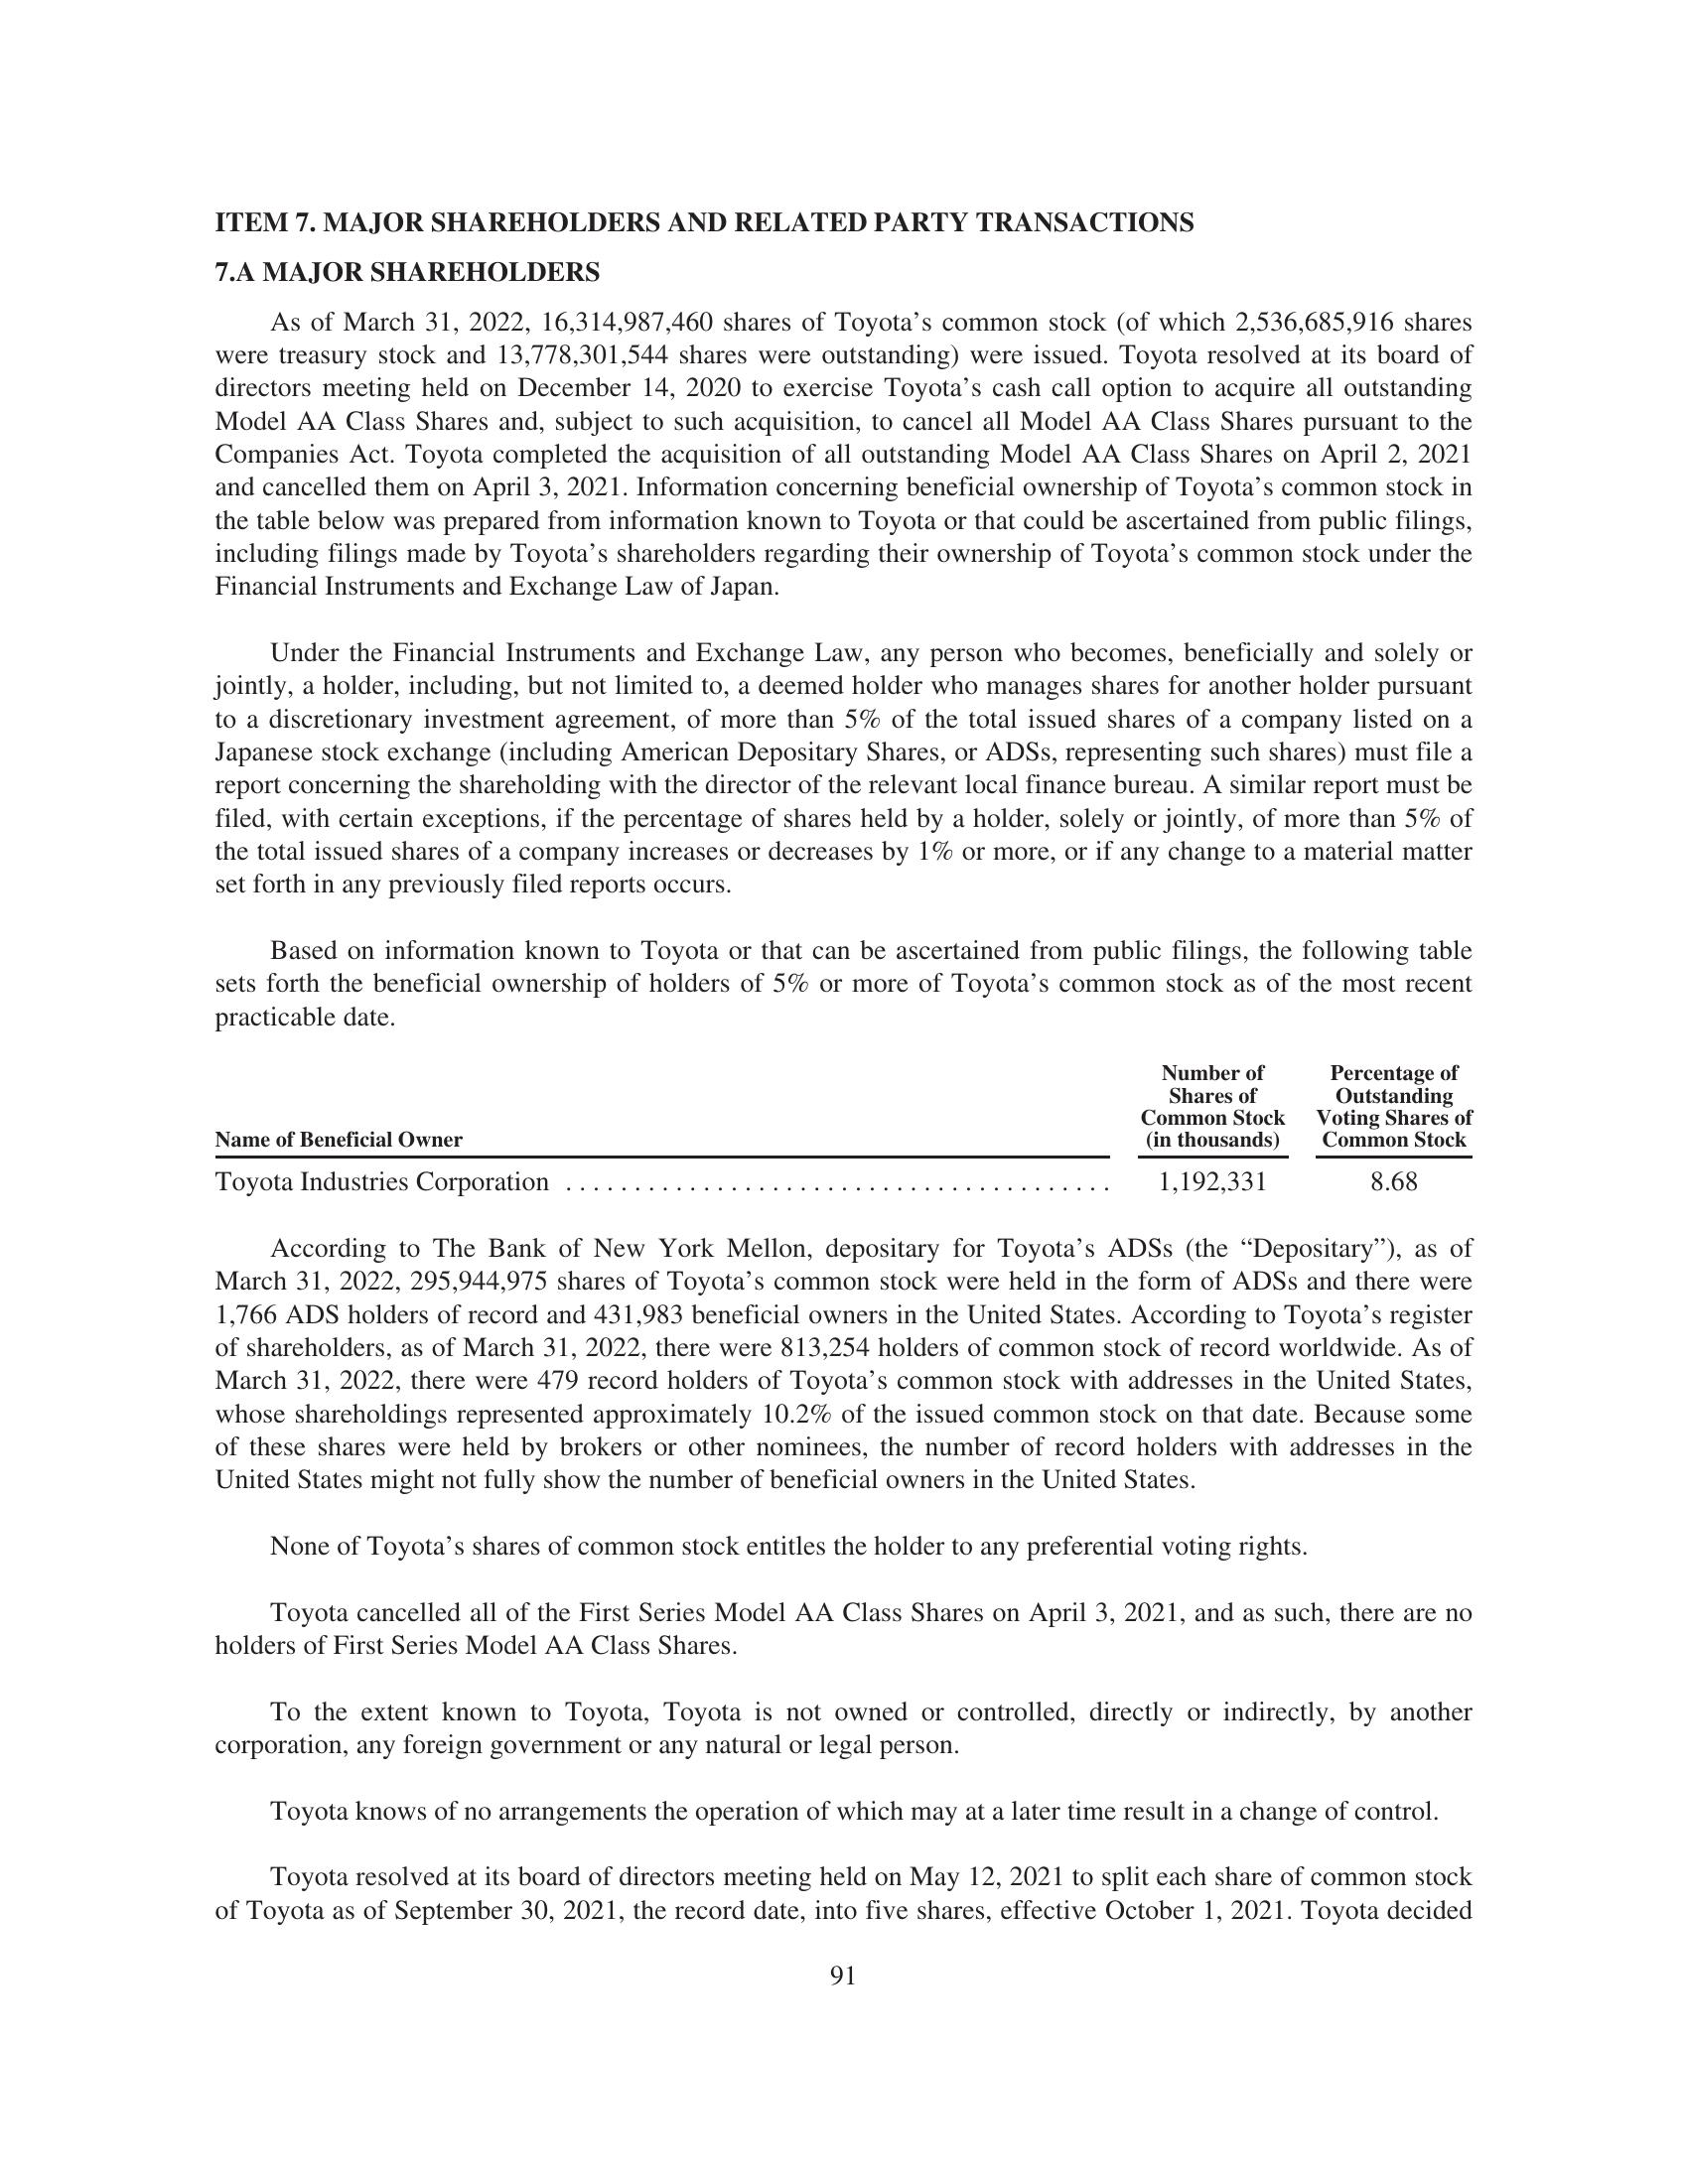Footer: (0, 1954, 1688, 2184)
Header: (0, 0, 1688, 188)
Table: (124, 1060, 1500, 1218)
